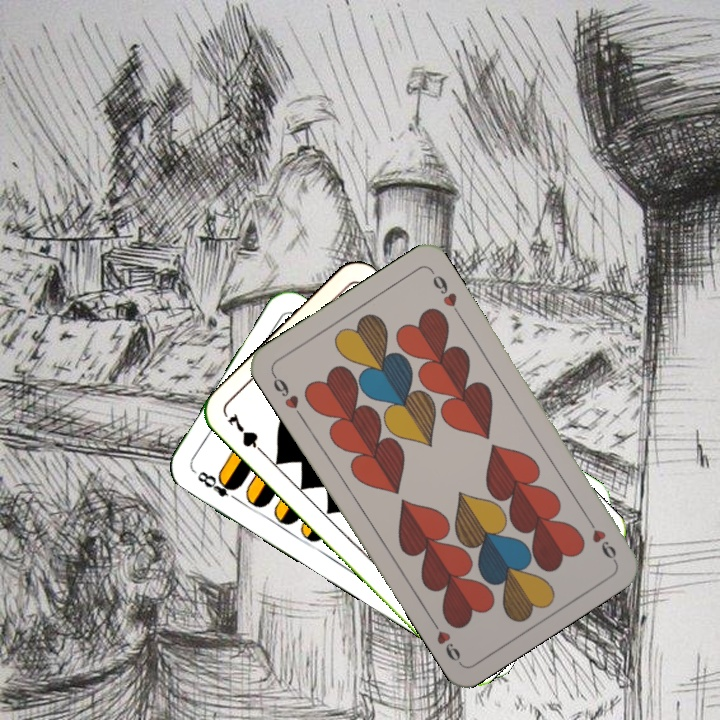E8: (193, 467, 243, 505)
G7: (223, 409, 269, 459)
H9: (581, 511, 619, 565), (268, 369, 306, 421)
